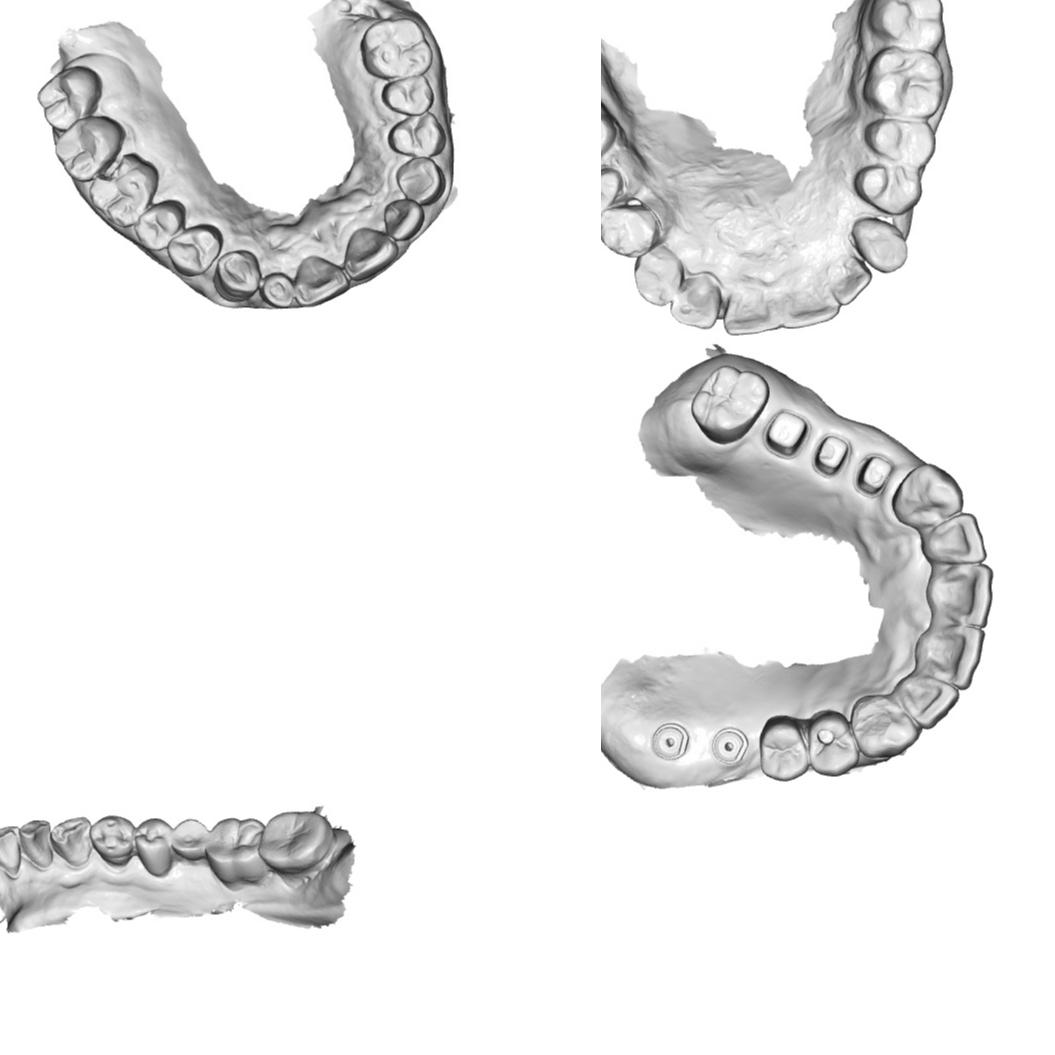abutment: (761, 401, 812, 463), (810, 424, 853, 482), (851, 445, 890, 497)
canine: (889, 458, 962, 529), (850, 690, 919, 762), (851, 215, 915, 274), (390, 153, 446, 209), (630, 250, 684, 306), (211, 248, 263, 304), (50, 815, 92, 868)
crown: (601, 169, 625, 220)
implant: (644, 715, 697, 769), (703, 719, 754, 772)
incisor: (926, 558, 998, 628), (913, 624, 983, 693), (915, 508, 988, 570), (895, 672, 960, 729), (776, 278, 843, 332), (718, 284, 784, 337), (291, 246, 349, 305), (347, 219, 404, 279), (666, 271, 723, 330), (20, 814, 64, 881), (829, 250, 874, 309), (382, 198, 426, 245), (0, 819, 28, 877), (259, 270, 294, 310)
molar: (686, 361, 772, 452), (860, 44, 946, 119), (258, 797, 332, 877), (87, 151, 160, 229), (53, 114, 128, 183), (360, 16, 434, 84), (36, 65, 104, 133), (206, 814, 270, 881), (866, 0, 946, 52), (169, 816, 214, 865)
premolar: (805, 705, 863, 779), (852, 159, 924, 218), (861, 113, 935, 170), (757, 715, 812, 783), (601, 201, 660, 258), (166, 222, 224, 278), (132, 816, 180, 879), (386, 110, 447, 158), (132, 197, 185, 252), (88, 813, 138, 871), (380, 73, 435, 117)
